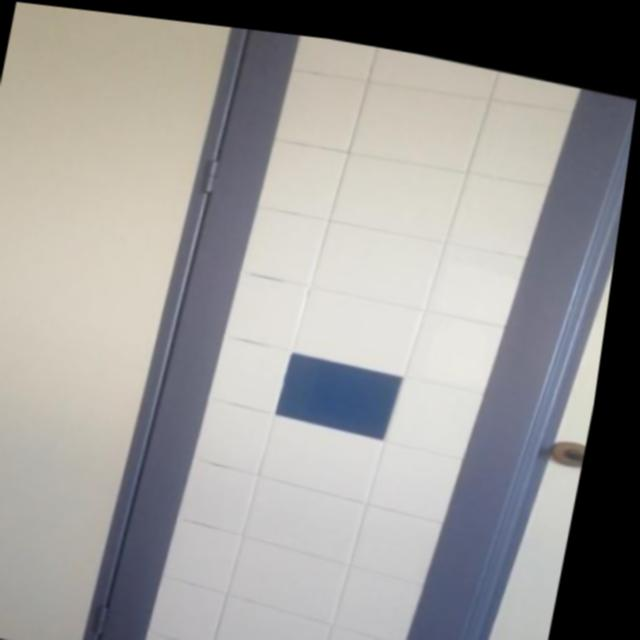door_handle: (573, 424, 597, 447)
